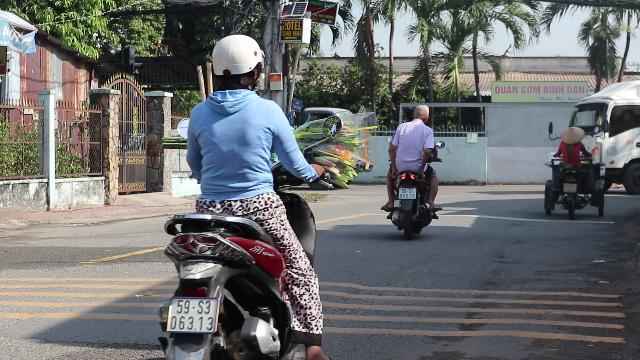helmet: (208, 34, 264, 96)
licenseplate: (168, 298, 216, 330), (398, 188, 416, 198)
motorcyclist: (154, 34, 336, 358), (379, 103, 441, 237)
nohelmet: (412, 105, 430, 123)
